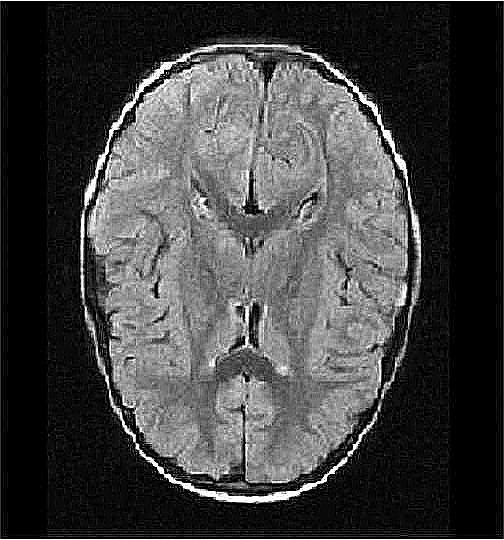Normal_Brain: (1, 3, 504, 540)
